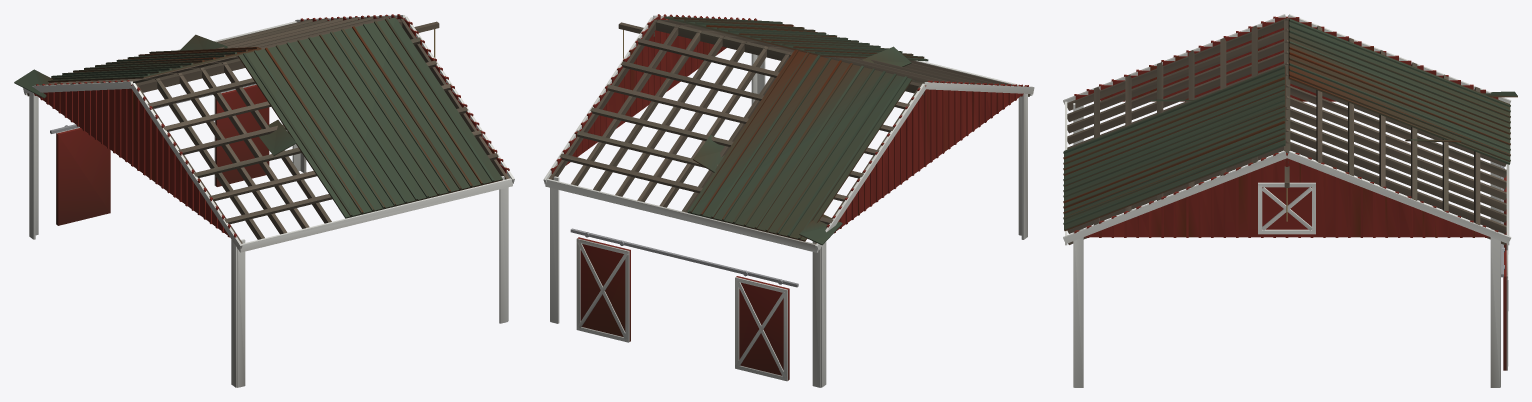
The model's file is BarnExterior.glb.
3 renders of one model, left to right at view 1: azimuth 30°, elevation 25°; view 2: azimuth 150°, elevation 25°; view 3: azimuth 270°, elevation 25°, orthographic. The views are drawn at different scales.
Visible parts, largest first — view 1: BarnExterior_metal_roof, BarnExterior_barn_red, BarnExterior_wood_old, BarnExterior_paint_white; view 2: BarnExterior_metal_roof, BarnExterior_barn_red, BarnExterior_wood_old, BarnExterior_paint_white, BarnExterior_steel; view 3: BarnExterior_metal_roof, BarnExterior_wood_old, BarnExterior_barn_red, BarnExterior_paint_white.
Boxes of the visible parts, x1,y1,x2,y2 form: BarnExterior_metal_roof: (14,17,502,218); BarnExterior_barn_red: (33,14,509,237); BarnExterior_wood_old: (27,15,509,243); BarnExterior_paint_white: (23,15,514,387); BarnExterior_metal_roof: (664,16,928,245); BarnExterior_barn_red: (550,14,1028,380); BarnExterior_wood_old: (548,16,1030,243); BarnExterior_paint_white: (543,15,1034,387); BarnExterior_steel: (570,228,798,287); BarnExterior_metal_roof: (1063,18,1517,230); BarnExterior_wood_old: (1067,18,1506,244); BarnExterior_barn_red: (1074,16,1506,370); BarnExterior_paint_white: (1063,14,1511,387).
Bounding box in the file's own units: 35.93 × 25.53 × 43.86.
